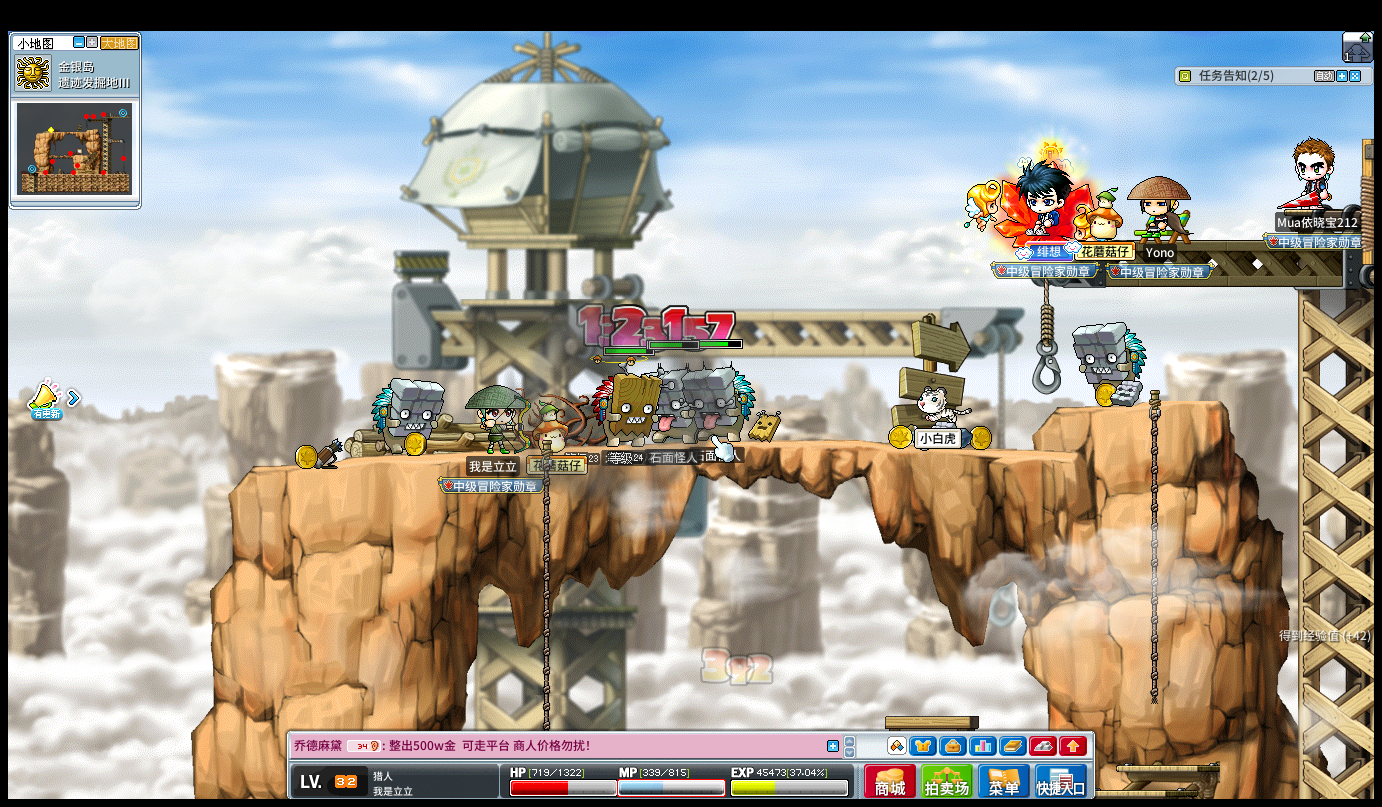floor: (229, 436, 1158, 456), (1051, 396, 1225, 412), (1115, 763, 1217, 773)
monster: (1071, 321, 1148, 406), (591, 363, 667, 445), (370, 378, 445, 459), (678, 365, 755, 442)
rope: (539, 437, 552, 807), (1145, 384, 1160, 703), (539, 435, 551, 725), (540, 438, 552, 670), (1040, 282, 1052, 349)
